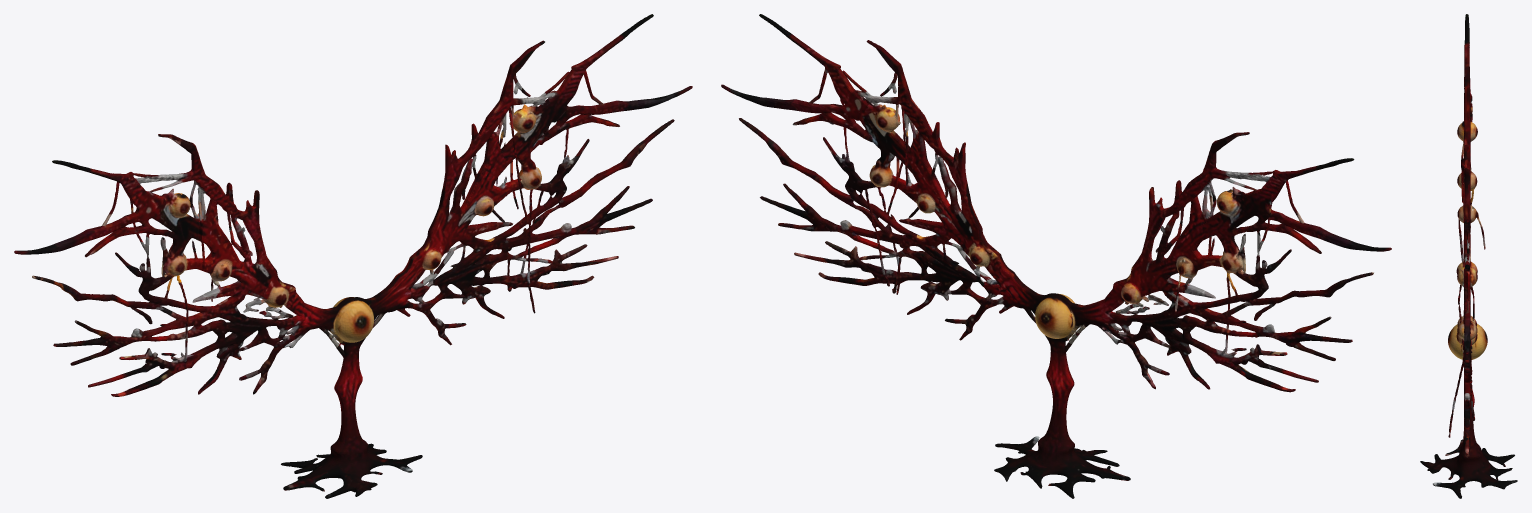
File: tripo_convert_66b17683-de09-456b-91e4-f4904226ef33.glb
The picture shows the model from 3 angles, left to right: view 1: azimuth 30°, elevation 25°; view 2: azimuth 150°, elevation 25°; view 3: azimuth 270°, elevation 25°; orthographic projection. The views are drawn at different scales.
Parts seen in each view (by area): view 1: tripo_node_66b17683-de09-456b-91e4-f4904226ef33; view 2: tripo_node_66b17683-de09-456b-91e4-f4904226ef33; view 3: tripo_node_66b17683-de09-456b-91e4-f4904226ef33.
Part boxes in pixels (bbox=[...]): tripo_node_66b17683-de09-456b-91e4-f4904226ef33: bbox=[14, 14, 692, 498]; tripo_node_66b17683-de09-456b-91e4-f4904226ef33: bbox=[721, 14, 1391, 498]; tripo_node_66b17683-de09-456b-91e4-f4904226ef33: bbox=[1420, 14, 1517, 498].
Size of the model in its own units: 1 by 0.5467 by 0.144.
1 material, 1 textured.
